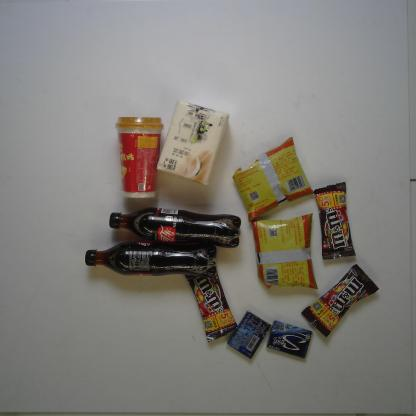Chocolate: (300, 263, 380, 339), (184, 260, 238, 343), (312, 180, 358, 261)
Drink: (108, 206, 242, 249), (84, 240, 218, 278)
Gum: (226, 310, 272, 360), (266, 320, 314, 360)
Instant Drink: (113, 116, 165, 199)
Seasoner: (231, 136, 315, 222), (249, 212, 319, 290)
Tissue: (154, 99, 230, 187)
